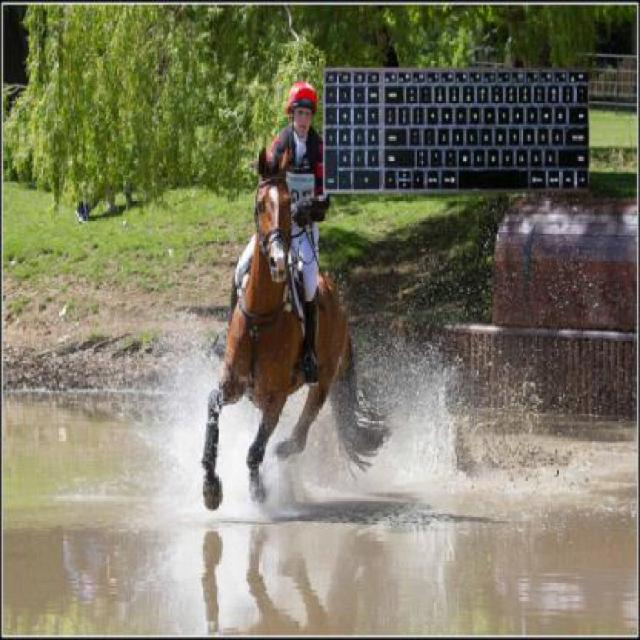keyboard: (319, 62, 582, 207)
